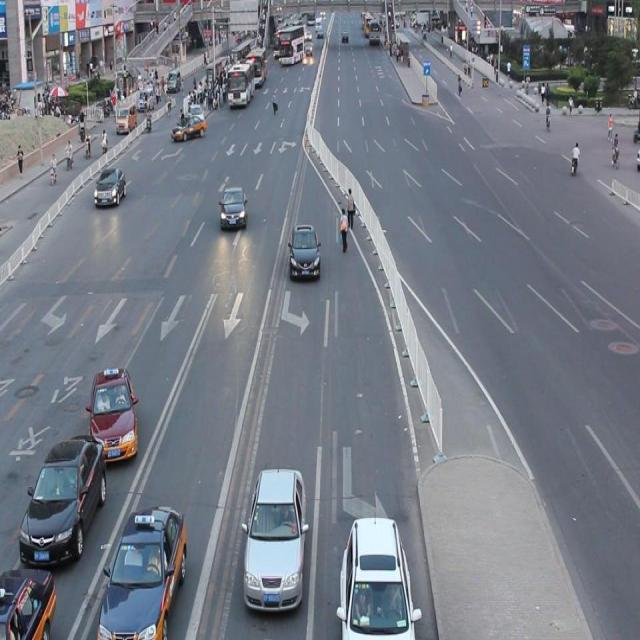car: (95, 500, 188, 640), (20, 431, 106, 565), (338, 512, 416, 640), (240, 464, 306, 612), (89, 366, 139, 464), (1, 565, 56, 640), (288, 221, 320, 282), (94, 164, 127, 208), (220, 184, 248, 232)
